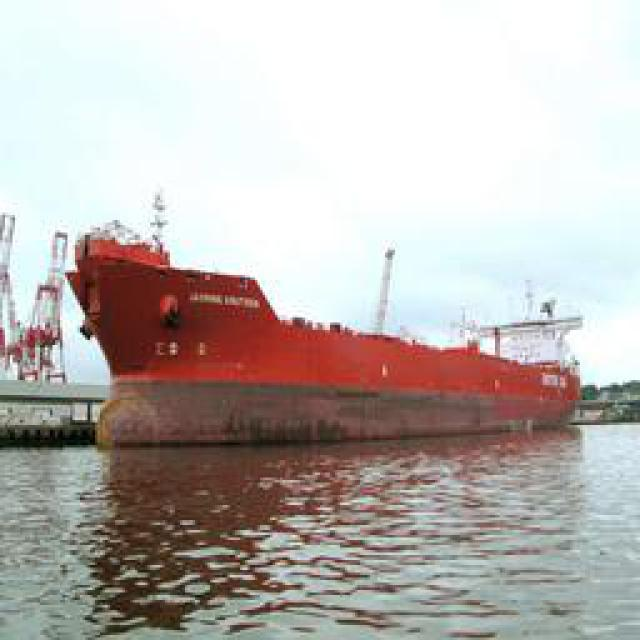Ship: (71, 231, 586, 449)
